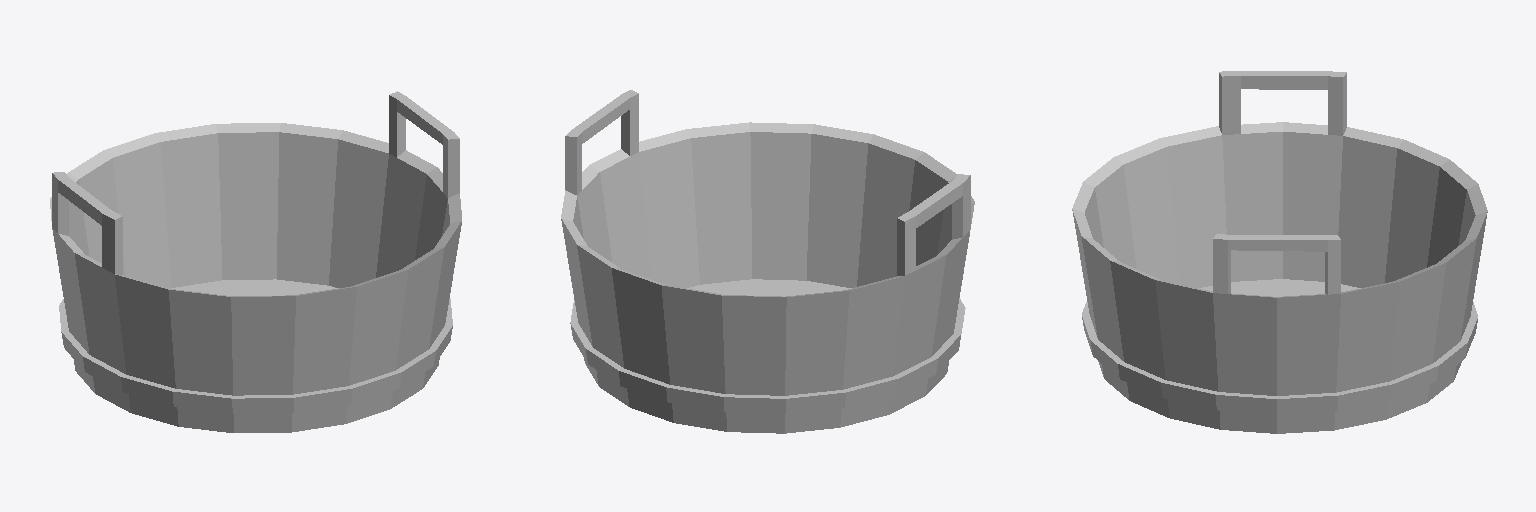
Rendered from washtub2.obj.
The picture shows the model from 3 angles: view 1: azimuth 30°, elevation 25°; view 2: azimuth 150°, elevation 25°; view 3: azimuth 270°, elevation 25°; orthographic projection.
Visible parts, largest first — view 1: woodenWashtub washtub_grp; view 2: woodenWashtub washtub_grp; view 3: woodenWashtub washtub_grp.
Boxes of the visible parts, x1=… form: woodenWashtub washtub_grp: x1=50, y1=91, x2=461, y2=432; woodenWashtub washtub_grp: x1=561, y1=90, x2=974, y2=433; woodenWashtub washtub_grp: x1=1072, y1=71, x2=1487, y2=433.
Size of the model in its own units: 130 by 69.36 by 130.